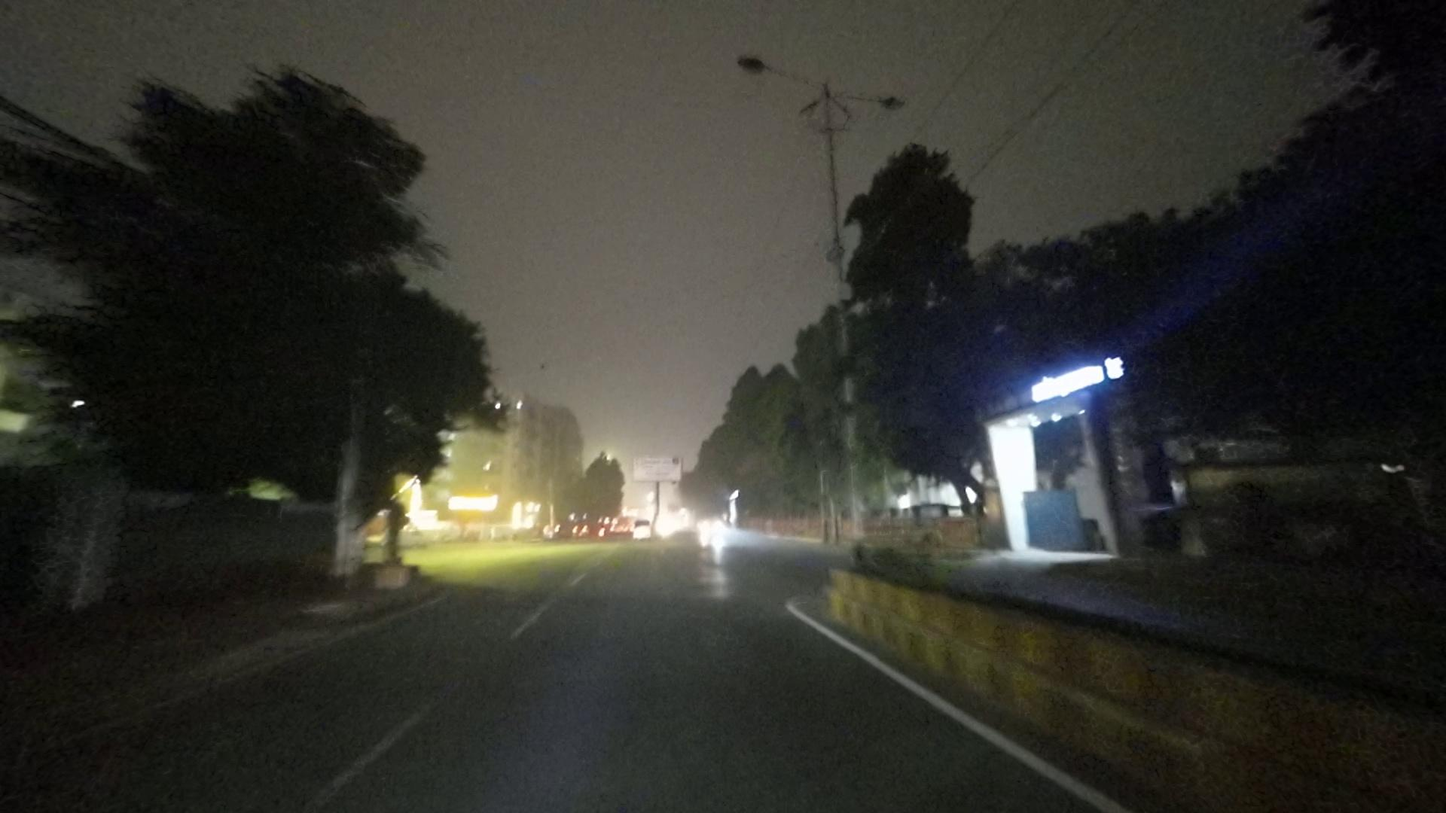streetlight: (733, 49, 821, 90)
